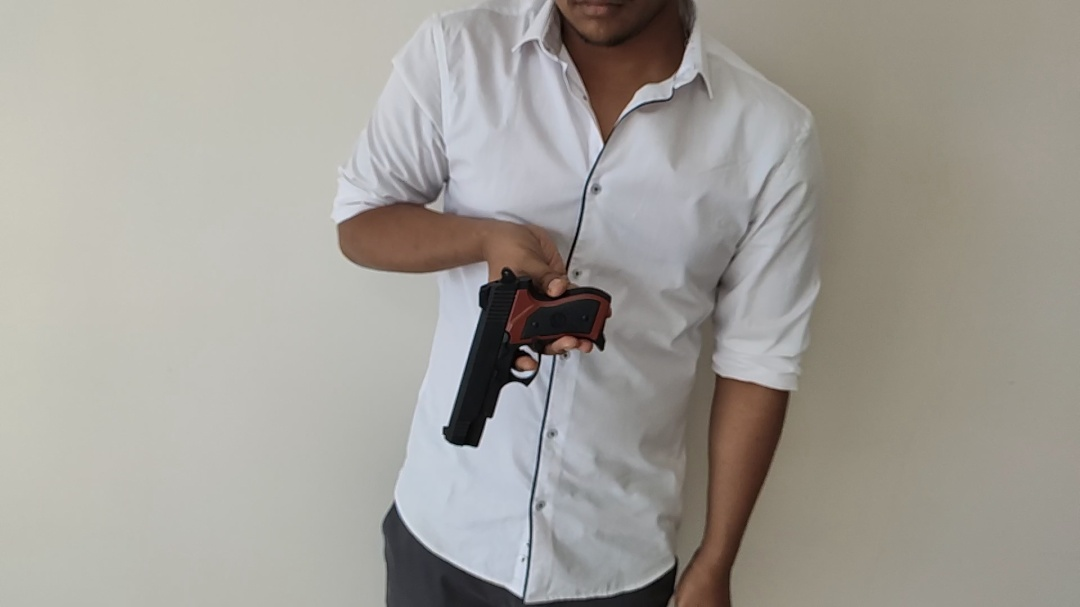gun: (442, 264, 612, 450)
